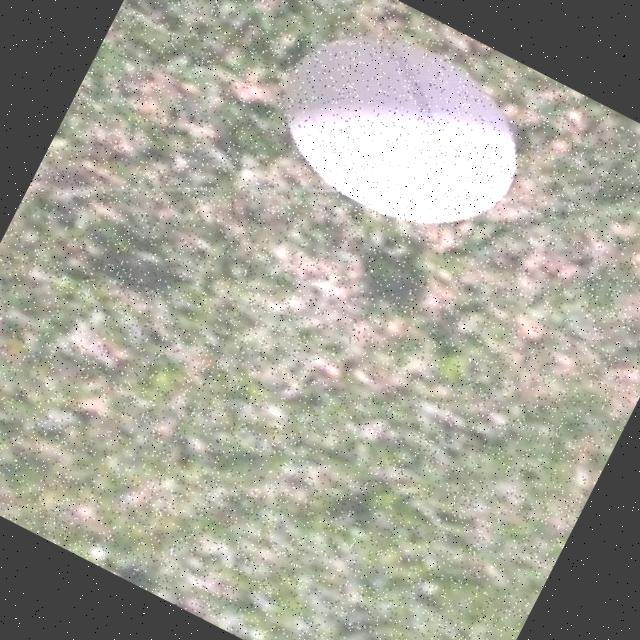ping-pong-ball: (256, 0, 548, 258)
